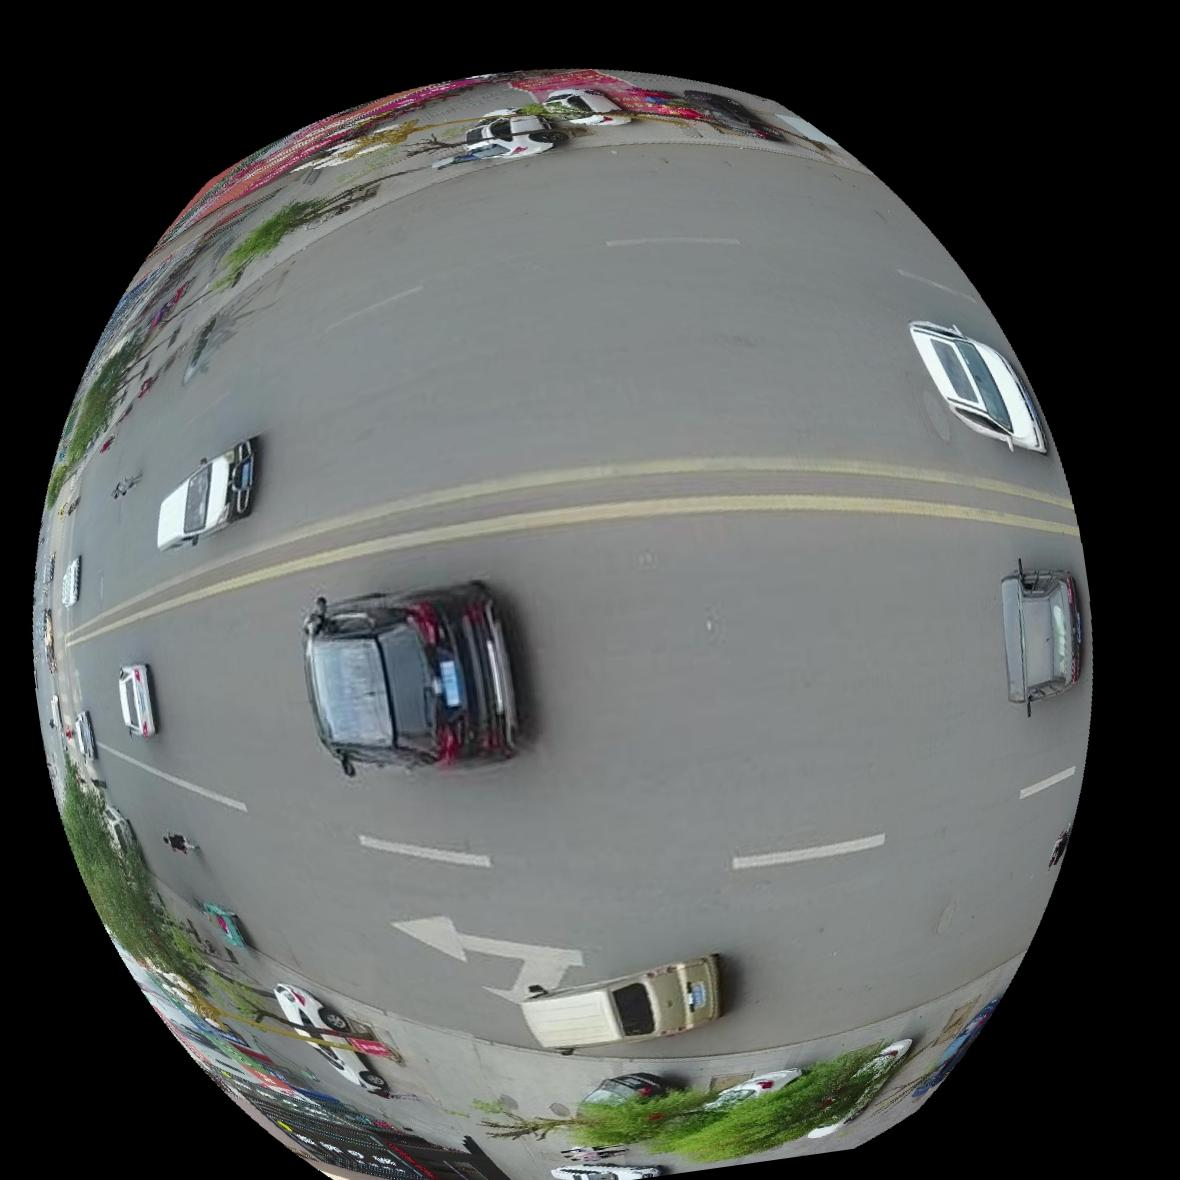cars: (303, 582, 516, 774), (522, 955, 722, 1055), (912, 319, 1048, 452), (1004, 561, 1084, 716), (156, 436, 255, 549), (117, 663, 157, 738), (552, 1164, 666, 1180), (61, 555, 80, 607)
trees: (490, 1041, 912, 1164), (61, 766, 206, 991)
